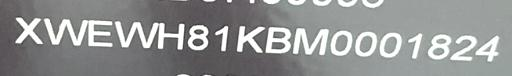letter: (42, 16, 88, 46), (114, 18, 158, 49), (292, 25, 330, 55), (234, 22, 264, 54), (263, 24, 291, 56), (14, 16, 44, 45), (86, 19, 114, 48), (157, 21, 185, 49), (449, 33, 477, 60), (476, 32, 500, 63), (328, 29, 354, 57), (352, 29, 378, 57), (186, 22, 210, 52), (426, 32, 452, 59), (378, 31, 402, 57), (212, 23, 230, 53), (405, 31, 423, 58)
